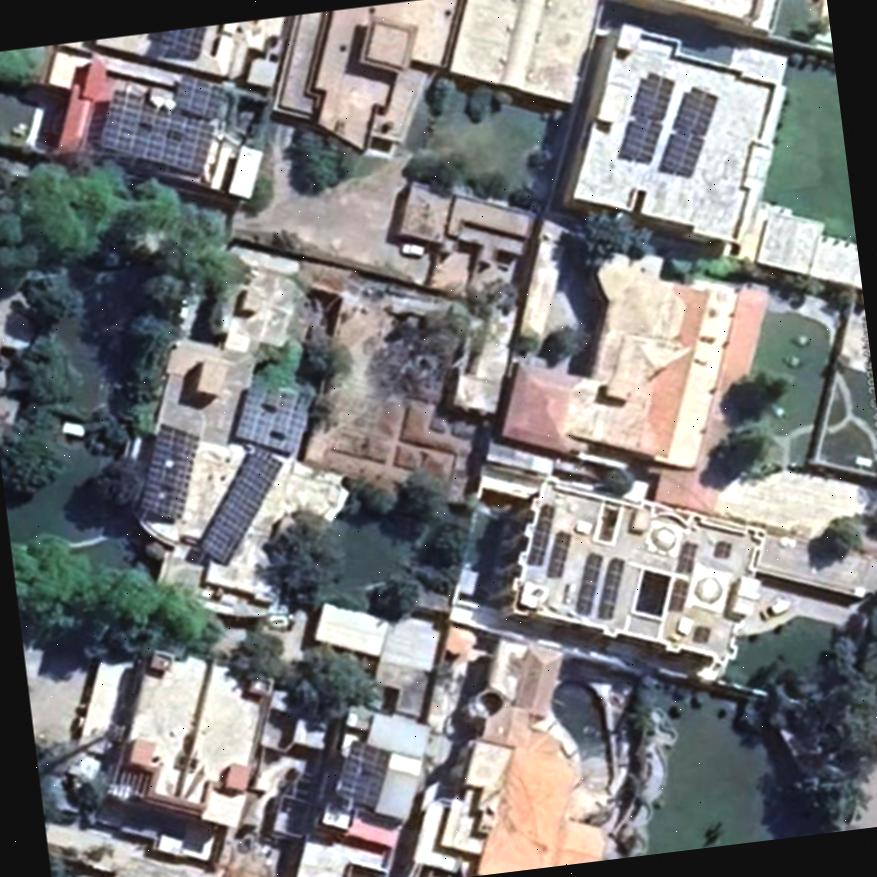Solarpanel: (197, 448, 279, 564), (100, 91, 213, 171), (233, 379, 311, 453), (143, 425, 198, 518), (619, 74, 673, 161), (662, 89, 715, 173), (335, 740, 390, 808), (173, 71, 222, 116), (160, 27, 203, 50)
